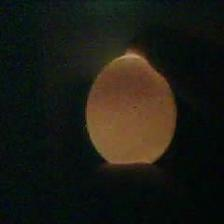infertile: (83, 50, 180, 168)
